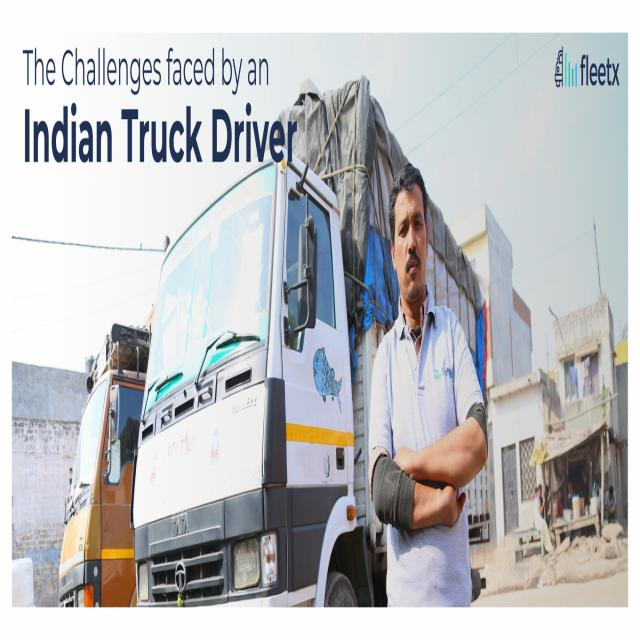Truck: (142, 222, 490, 640), (60, 336, 172, 624)
